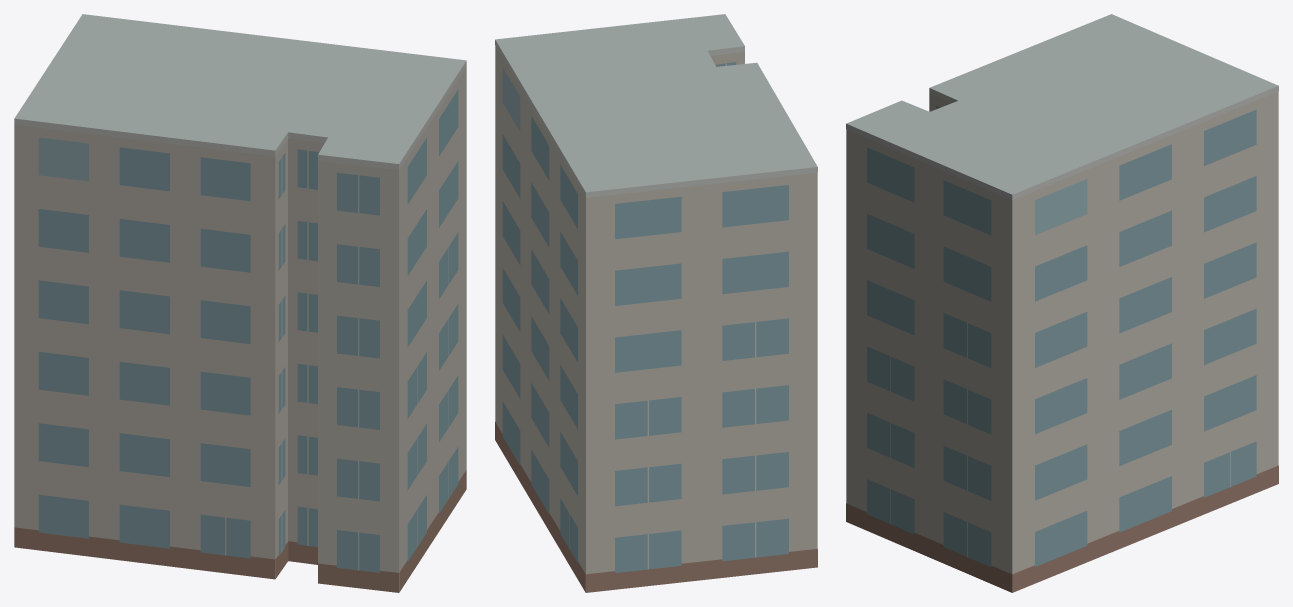
File: survey-upis-32884476.glb
3 views of the same model, side by side, from view 1: azimuth 30°, elevation 25°; view 2: azimuth 150°, elevation 25°; view 3: azimuth 270°, elevation 25° (orthographic). The views are drawn at different scales.
Visible parts, largest first — view 1: survey-upis-32884476.tmp; view 2: survey-upis-32884476.tmp; view 3: survey-upis-32884476.tmp.
Part boxes in pixels (bbox=[...]): survey-upis-32884476.tmp: bbox=[14, 14, 466, 592]; survey-upis-32884476.tmp: bbox=[495, 14, 817, 592]; survey-upis-32884476.tmp: bbox=[846, 14, 1278, 592].
Size of the model in its own units: 16.95 by 17.4 by 17.14.
